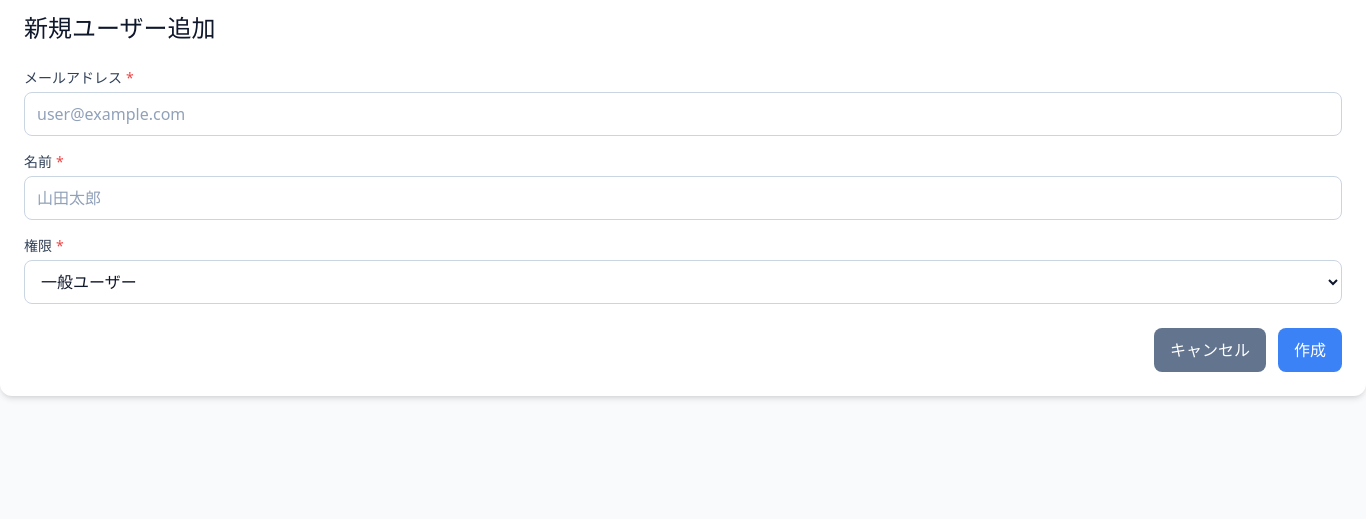
Scenario: UserCreateForm › Form Submission › should show error message on API error
Type "test@example.com" into the field with placeholder "user@example.com" at (683, 114), box [24,92,1342,136]
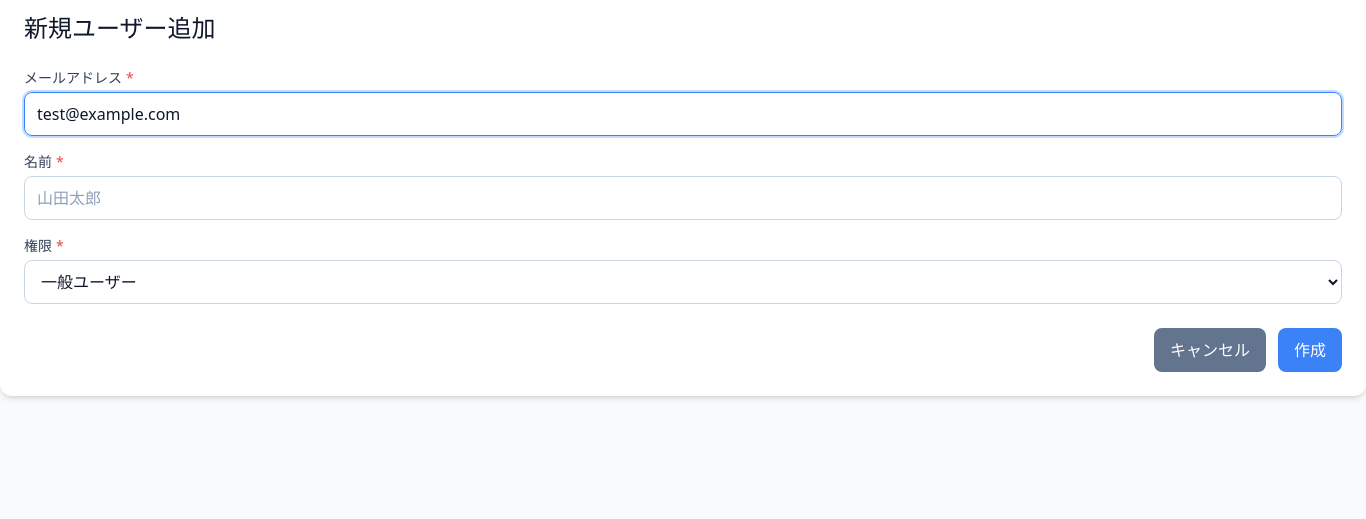
Type "Test User" into the field with placeholder "山田太郎" at (683, 198), box [24,176,1342,220]
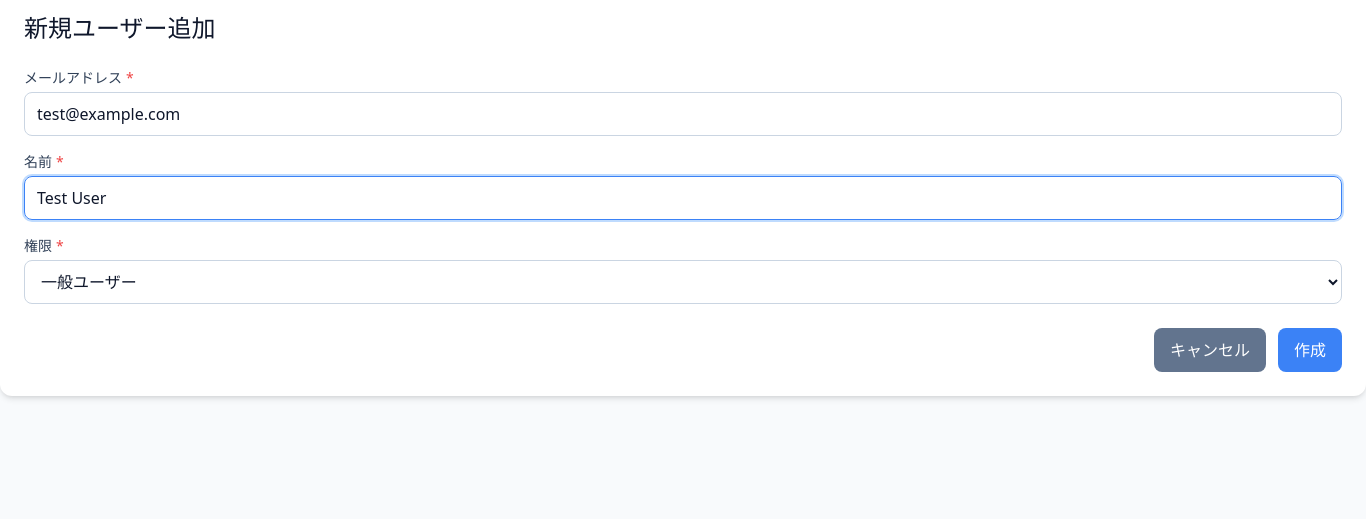
Click the button "作成" at (1310, 350), box [1278,328,1342,372]
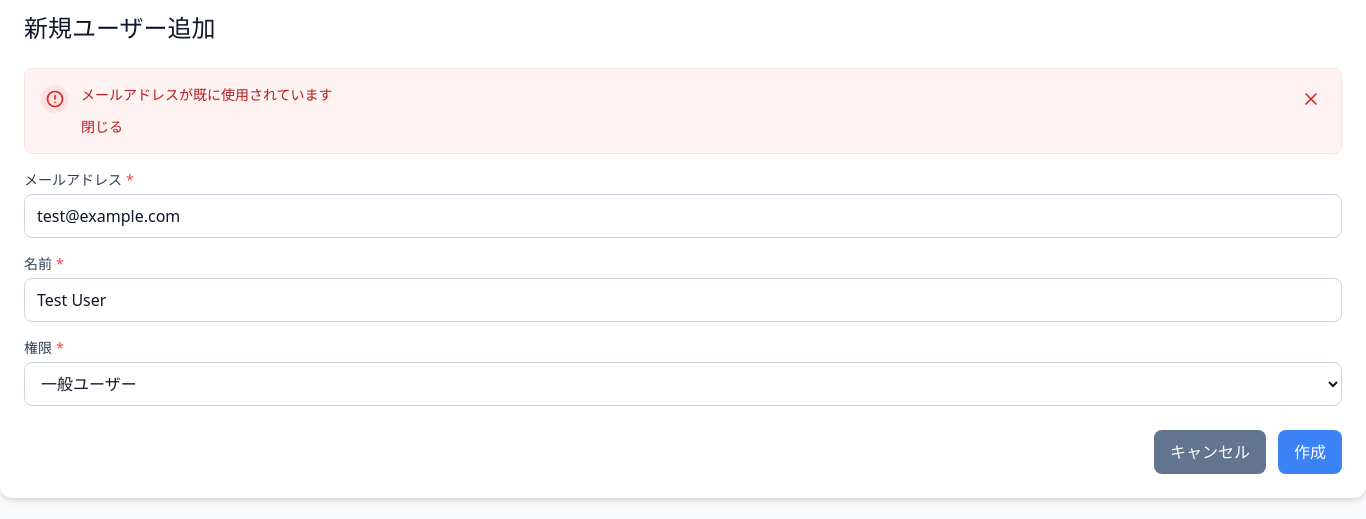
Expected: the message shows "メールアドレスが既に使用されています", [81,85,333,104]
